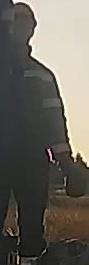gloves: (53, 149, 88, 198)
helmet: (11, 3, 38, 27)
vest: (6, 50, 66, 171)
